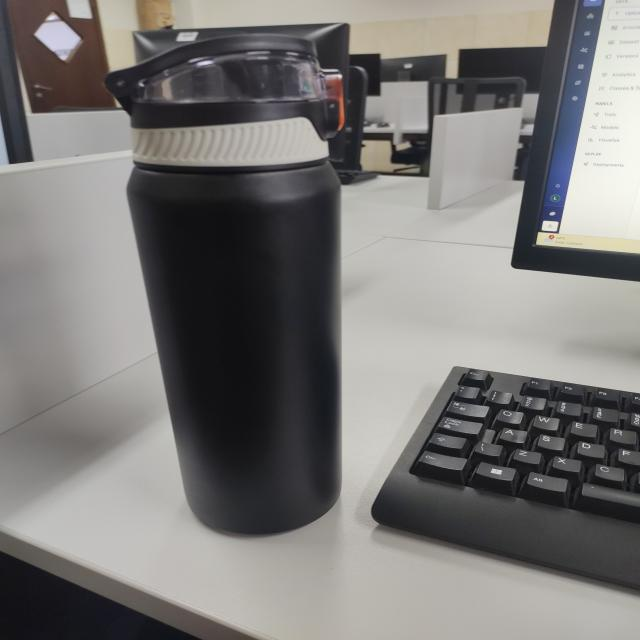Garrafa: (101, 18, 414, 548)
